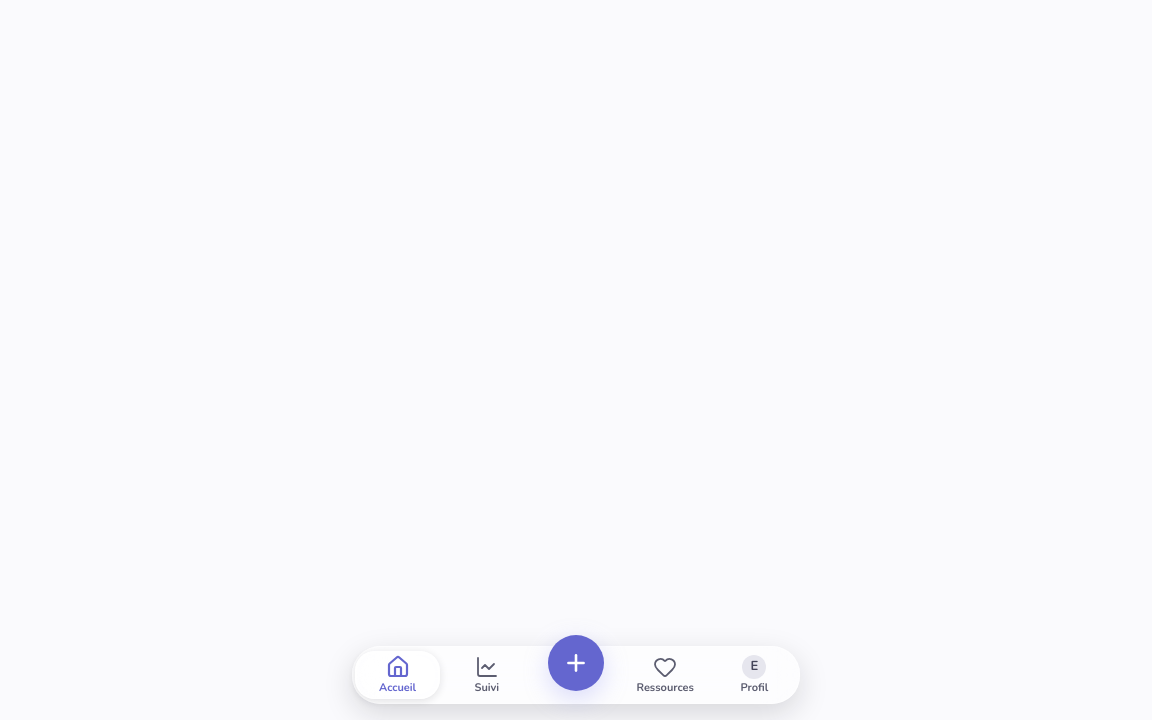
Test: TabBar › se ferme avec Échap et rend le focus au « + »
Step 1. Click the button named "Actions rapides" → (576, 663), box [548, 635, 604, 691]
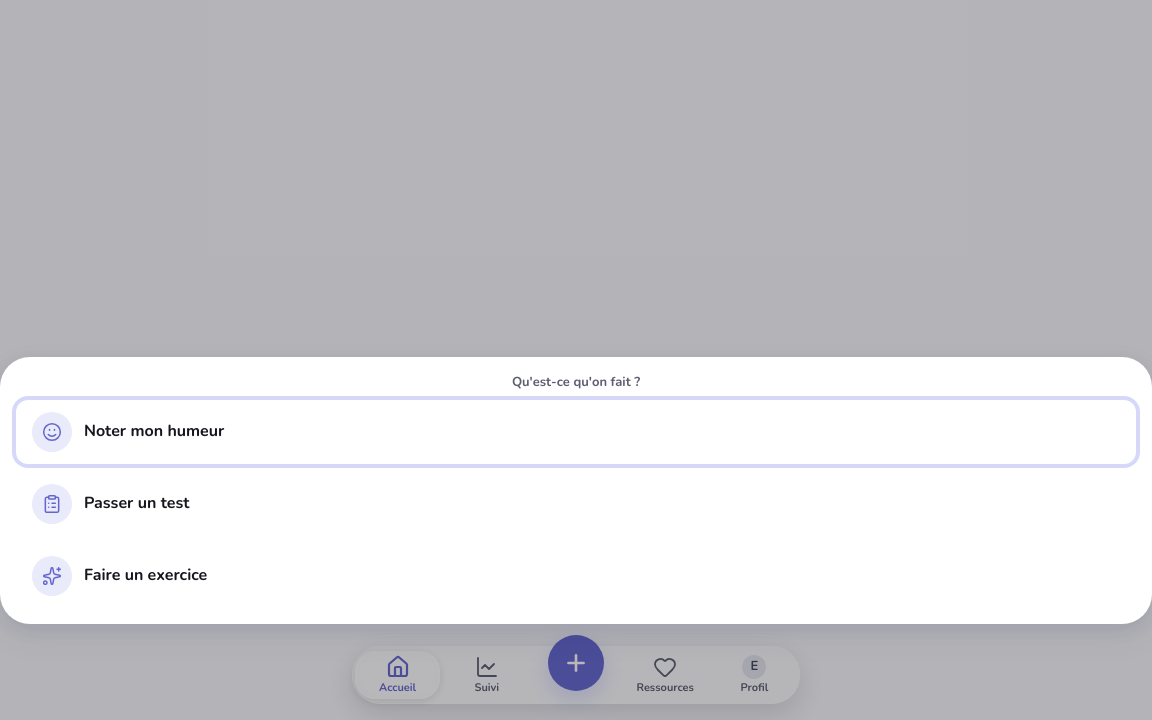
expect the dialog is shown: met, box [0, 356, 1151, 624]
Step 2. Press Escape
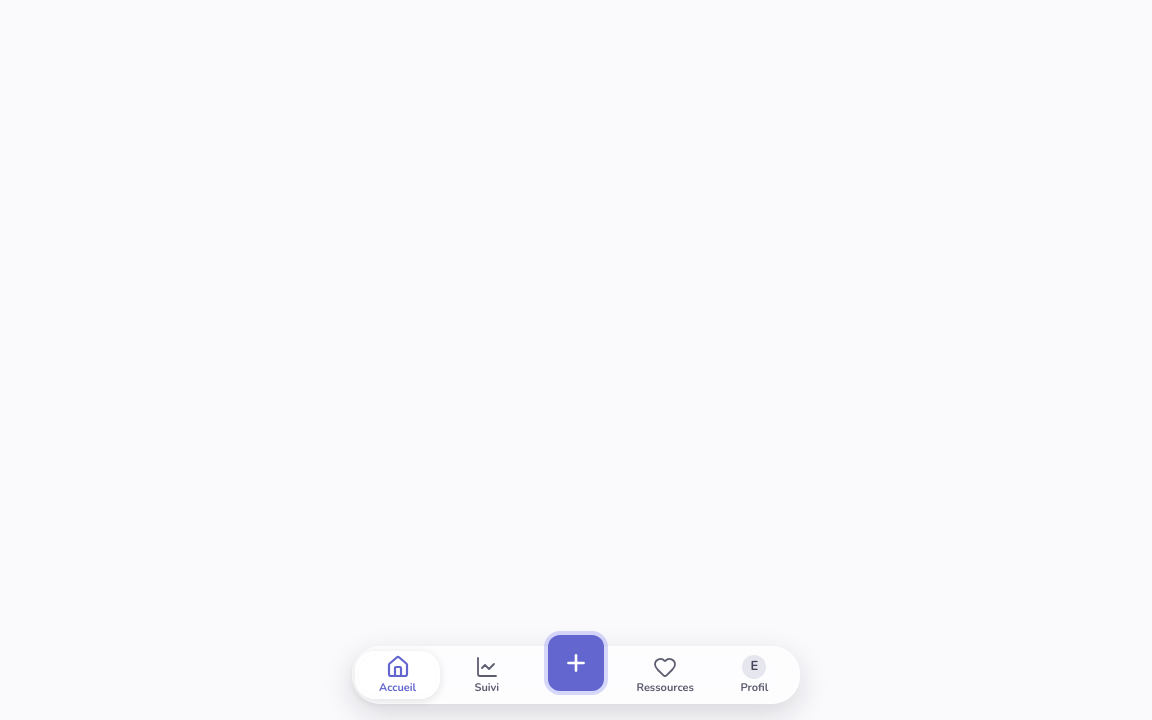
expect the dialog is gone: met
expect the button named "Actions rapides" is collapsed: met, box [548, 635, 604, 691]
